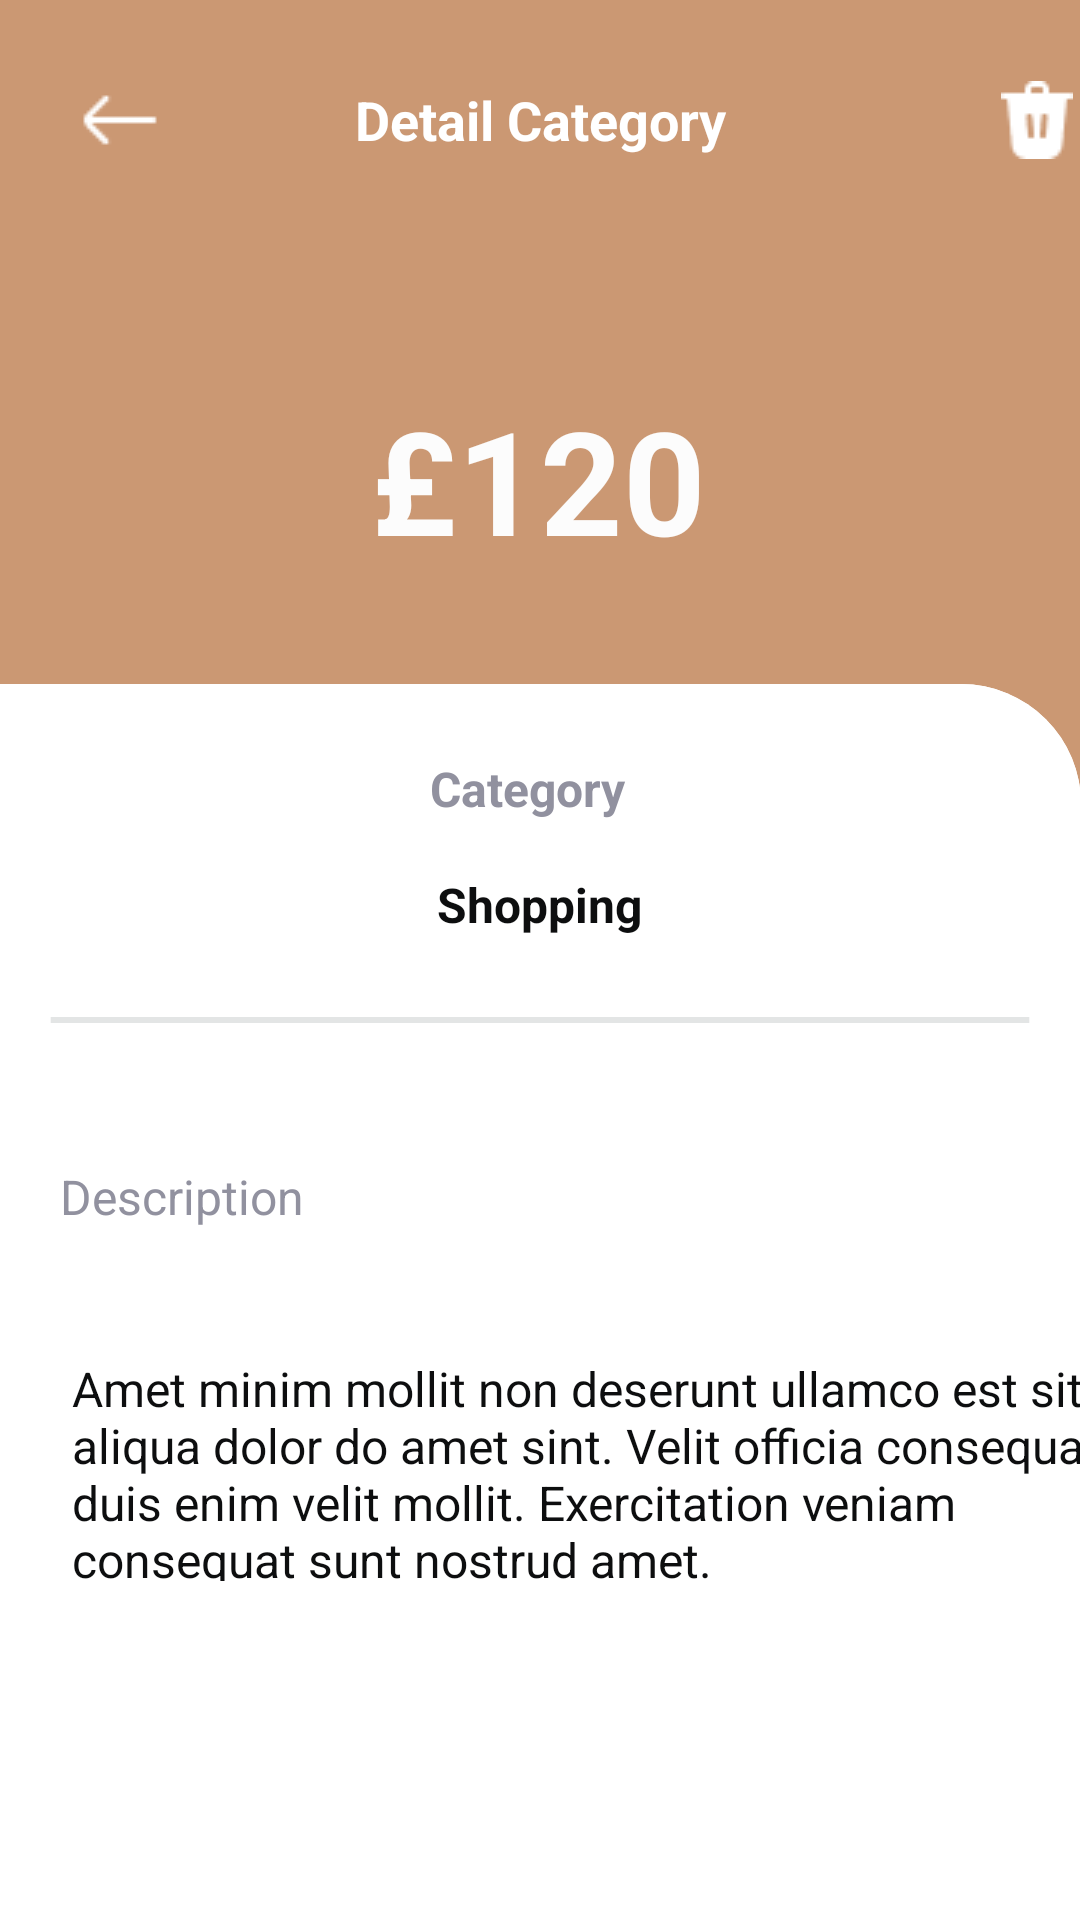

Icons on this 1080px x 1920px Android screen, each with the point to tap as point (x, y):
arrow: point (120, 120)
trash: point (1037, 120)
